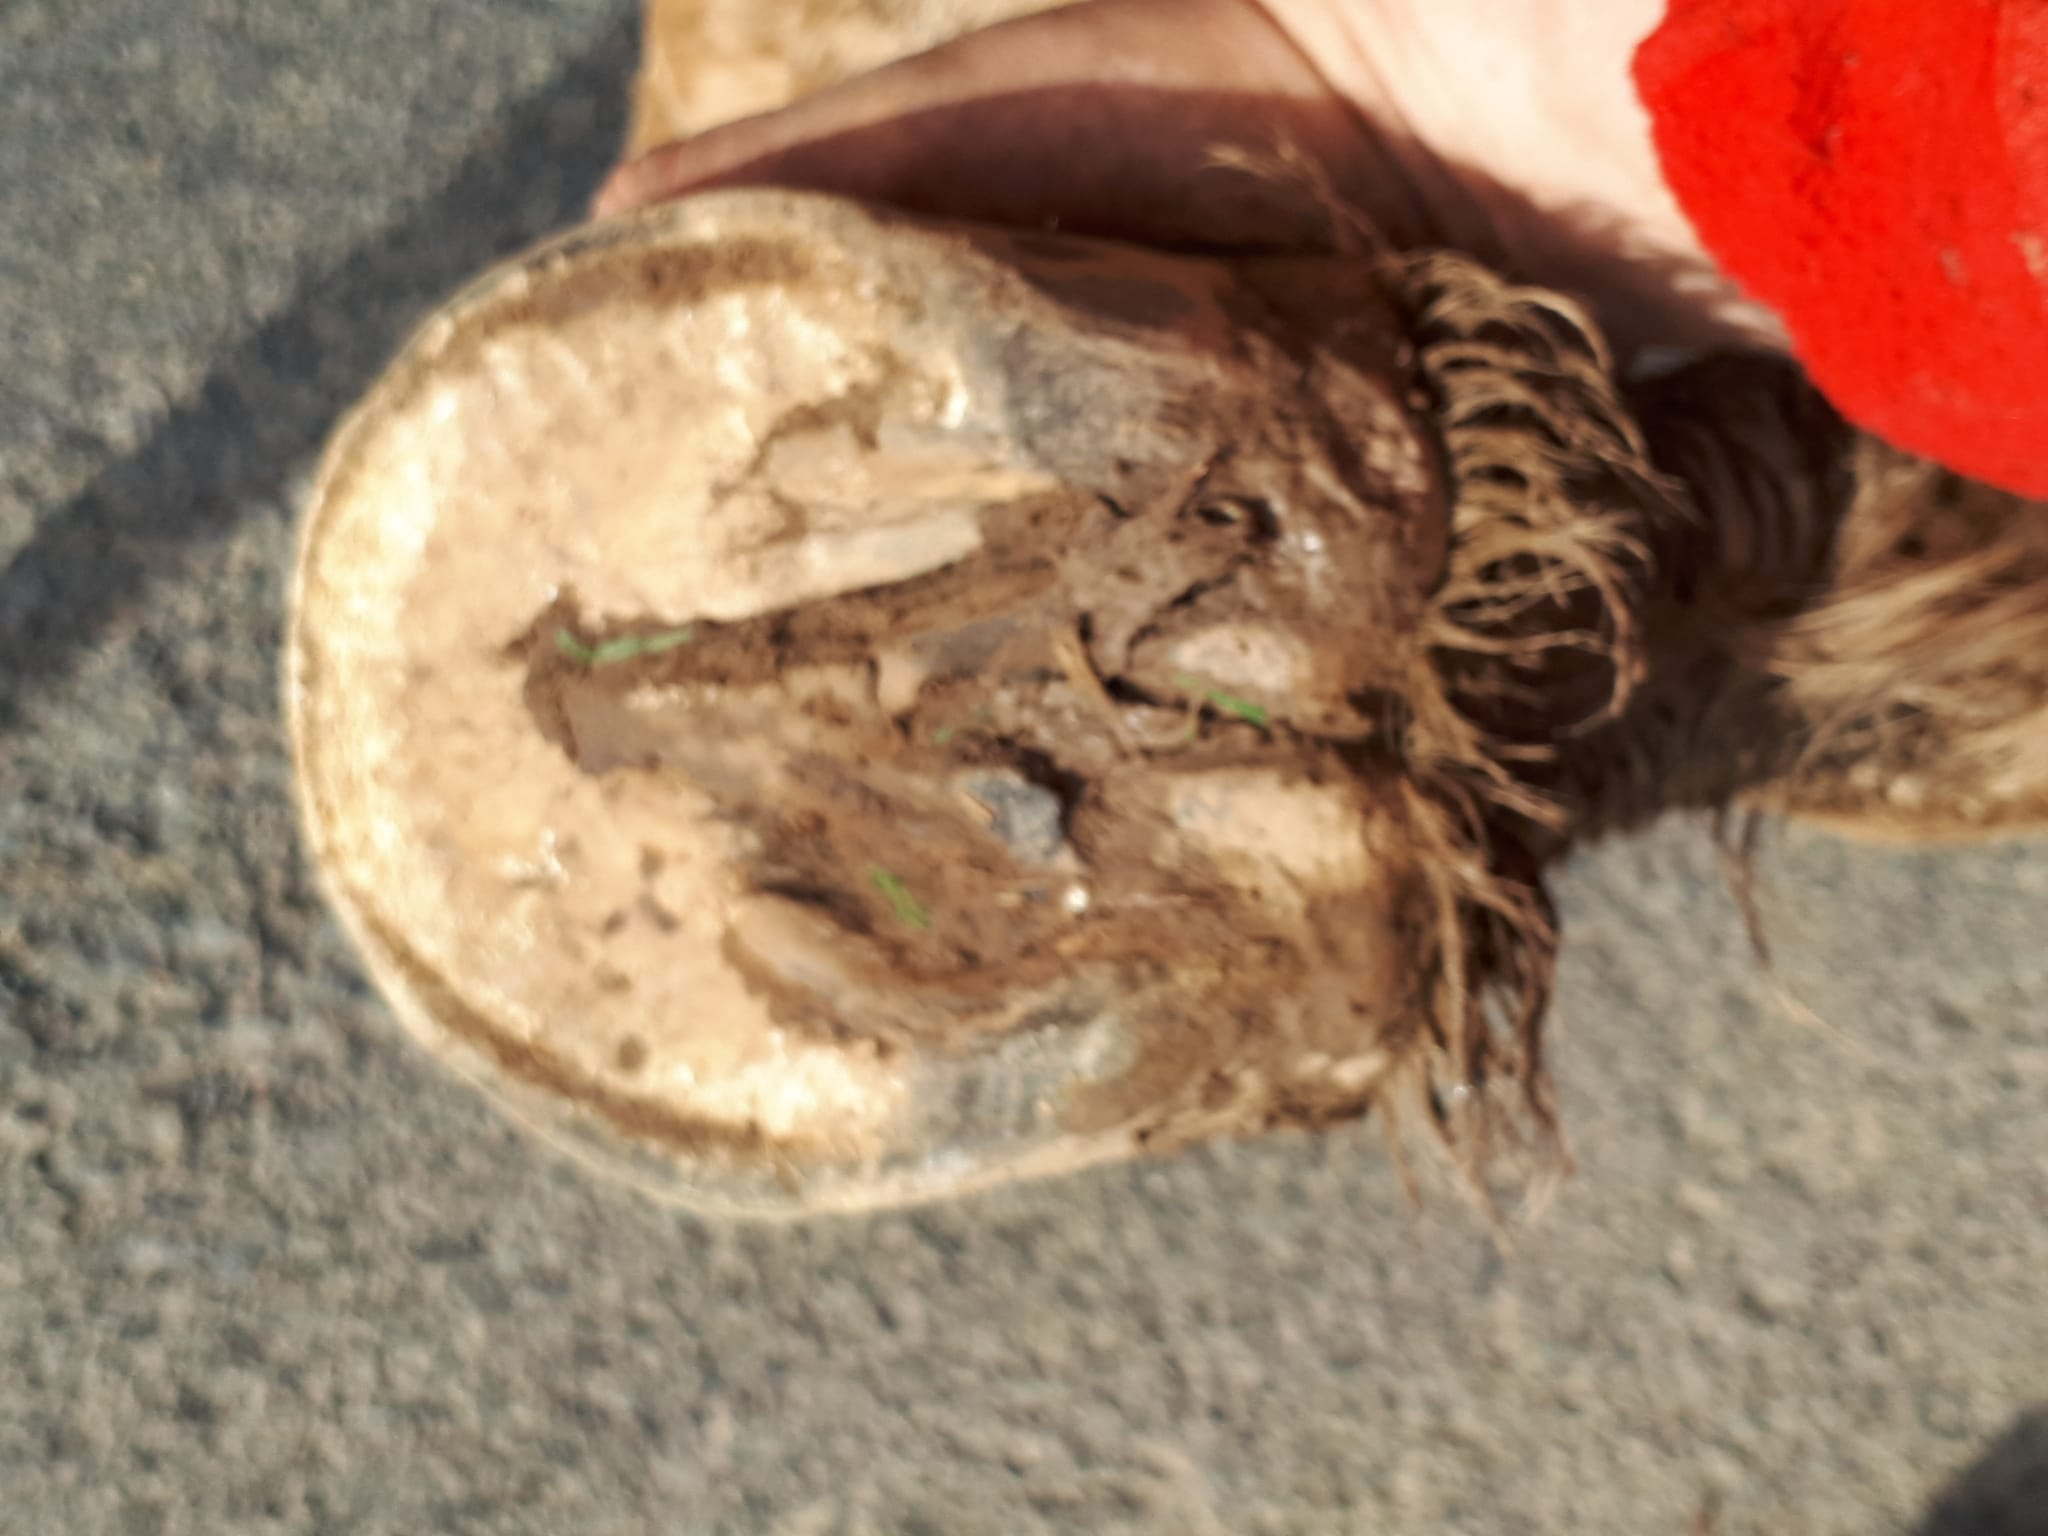horsesole: (284, 189, 1174, 1215)
